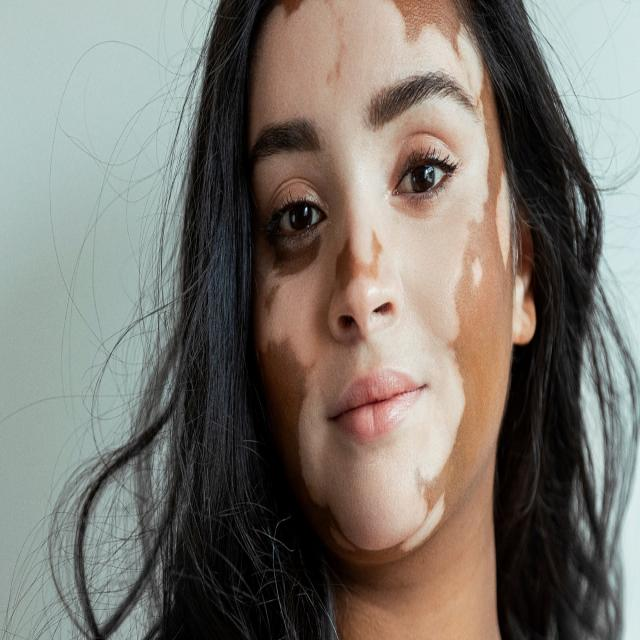vitiligo: (264, 21, 510, 624)
